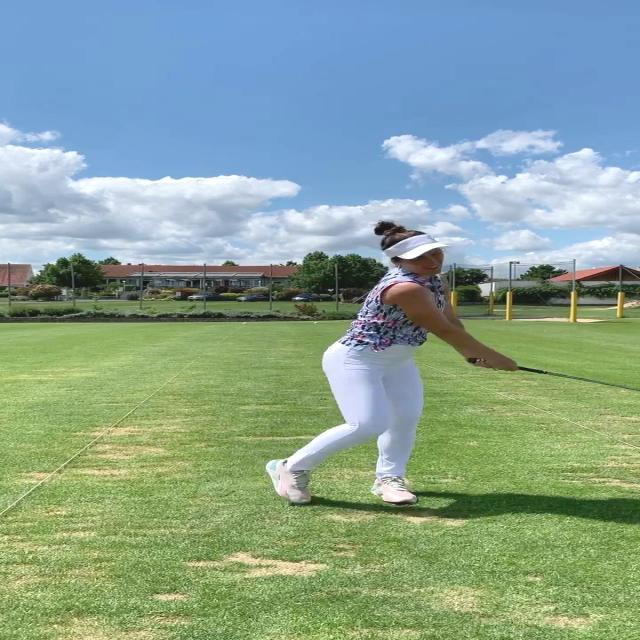ClubHandle: (467, 357, 640, 392)
